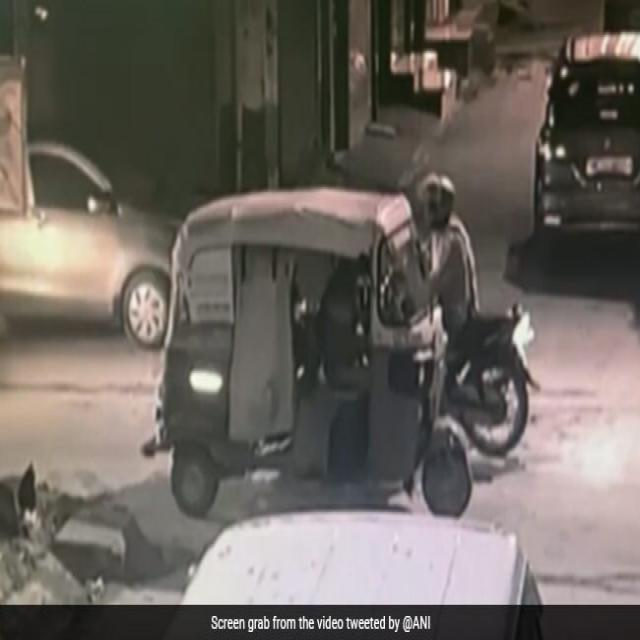autorickshaw: (155, 187, 471, 516)
car: (0, 57, 172, 345), (535, 34, 640, 231)
motorcycle: (408, 173, 538, 454)
